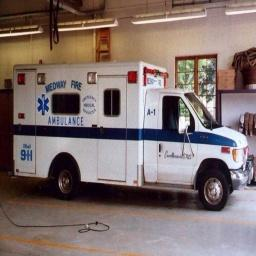Ambulance: (13, 62, 250, 209)
